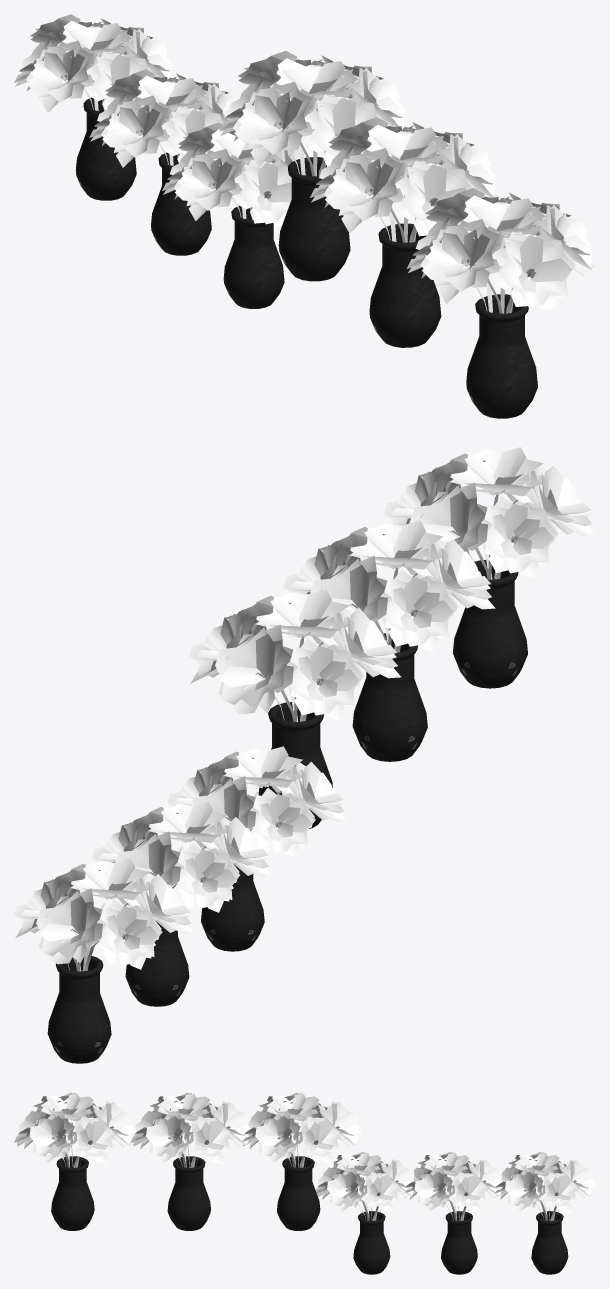
Rendered from Room4-Flower3.glb.
3 renders of one model, top to bottom at view 1: azimuth 30°, elevation 25°; view 2: azimuth 150°, elevation 25°; view 3: azimuth 270°, elevation 25°, orthographic. The views are drawn at different scales.
Visible parts, largest first — view 1: flowers_magnolia_003_flowers_magnolia_stem_0.001, flowers_magnolia_003_flowers_magnolia_stem_0.004, flowers_magnolia_003_flowers_magnolia_stem_0.006, flowers_magnolia_003_flowers_magnolia_stem_0.005, flowers_magnolia_003_flowers_magnolia_stem_0.002, flowers_magnolia_003_flowers_magnolia_stem_0.003; view 2: flowers_magnolia_003_flowers_magnolia_stem_0.001, flowers_magnolia_003_flowers_magnolia_stem_0.004, flowers_magnolia_003_flowers_magnolia_stem_0.006, flowers_magnolia_003_flowers_magnolia_stem_0.002, flowers_magnolia_003_flowers_magnolia_stem_0.003, flowers_magnolia_003_flowers_magnolia_stem_0.005; view 3: flowers_magnolia_003_flowers_magnolia_stem_0.001, flowers_magnolia_003_flowers_magnolia_stem_0.004, flowers_magnolia_003_flowers_magnolia_stem_0.006, flowers_magnolia_003_flowers_magnolia_stem_0.005, flowers_magnolia_003_flowers_magnolia_stem_0.002, flowers_magnolia_003_flowers_magnolia_stem_0.003.
Part boxes in pixels (x1=…): flowers_magnolia_003_flowers_magnolia_stem_0.001: x1=406, y1=188, x2=595, y2=418; flowers_magnolia_003_flowers_magnolia_stem_0.004: x1=310, y1=117, x2=498, y2=347; flowers_magnolia_003_flowers_magnolia_stem_0.006: x1=219, y1=51, x2=405, y2=281; flowers_magnolia_003_flowers_magnolia_stem_0.005: x1=162, y1=122, x2=313, y2=308; flowers_magnolia_003_flowers_magnolia_stem_0.002: x1=14, y1=14, x2=172, y2=200; flowers_magnolia_003_flowers_magnolia_stem_0.003: x1=89, y1=69, x2=239, y2=255; flowers_magnolia_003_flowers_magnolia_stem_0.001: x1=383, y1=447, x2=595, y2=688; flowers_magnolia_003_flowers_magnolia_stem_0.004: x1=283, y1=520, x2=495, y2=761; flowers_magnolia_003_flowers_magnolia_stem_0.006: x1=189, y1=589, x2=401, y2=828; flowers_magnolia_003_flowers_magnolia_stem_0.002: x1=14, y1=858, x2=193, y2=1063; flowers_magnolia_003_flowers_magnolia_stem_0.003: x1=92, y1=801, x2=271, y2=1006; flowers_magnolia_003_flowers_magnolia_stem_0.005: x1=167, y1=746, x2=347, y2=951; flowers_magnolia_003_flowers_magnolia_stem_0.001: x1=14, y1=1092, x2=136, y2=1230; flowers_magnolia_003_flowers_magnolia_stem_0.004: x1=130, y1=1092, x2=250, y2=1230; flowers_magnolia_003_flowers_magnolia_stem_0.006: x1=242, y1=1092, x2=362, y2=1230; flowers_magnolia_003_flowers_magnolia_stem_0.005: x1=315, y1=1152, x2=414, y2=1274; flowers_magnolia_003_flowers_magnolia_stem_0.002: x1=495, y1=1152, x2=595, y2=1274; flowers_magnolia_003_flowers_magnolia_stem_0.003: x1=401, y1=1152, x2=502, y2=1274.
Bounding box in the file's own units: 3.74 × 5.7 × 17.73.
6 materials, 4 textured.
